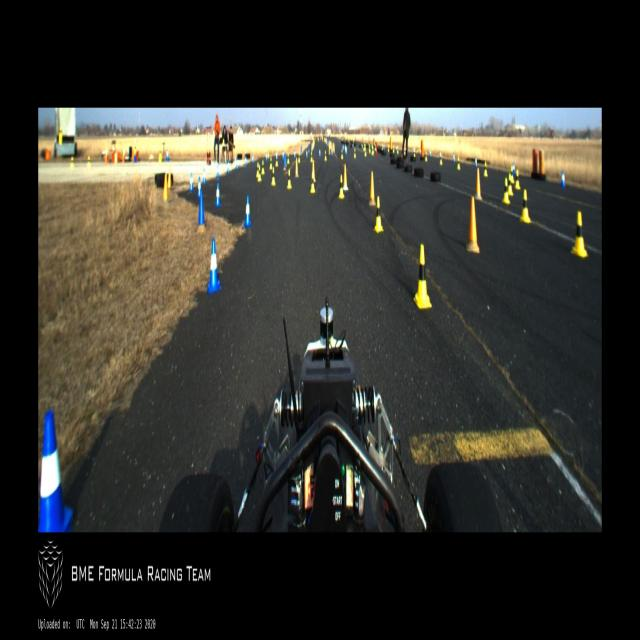blue_cone: (38, 410, 73, 532), (208, 237, 222, 295), (244, 194, 252, 226), (215, 182, 222, 206), (561, 170, 566, 188), (197, 177, 201, 197), (190, 173, 193, 192), (216, 164, 220, 178), (203, 168, 206, 184), (283, 154, 286, 168), (227, 160, 230, 173), (236, 157, 239, 170), (166, 149, 169, 162), (513, 162, 515, 176), (245, 156, 247, 167), (475, 157, 477, 168), (266, 152, 268, 162), (453, 152, 455, 162), (252, 154, 254, 163), (306, 149, 308, 158), (319, 148, 321, 157), (294, 150, 296, 158)
unknown_cone: (466, 195, 479, 253), (368, 171, 376, 205), (474, 168, 482, 200), (198, 189, 205, 225), (162, 172, 168, 200), (343, 164, 349, 190), (311, 160, 316, 182), (294, 158, 298, 178), (168, 168, 171, 189), (268, 148, 270, 158)
yellow_cone: (413, 243, 432, 309), (571, 210, 588, 258), (373, 195, 384, 234), (520, 189, 531, 223), (502, 177, 511, 205), (508, 172, 514, 196), (339, 174, 344, 198), (310, 174, 316, 194), (287, 169, 292, 189), (515, 169, 520, 189), (272, 167, 276, 186), (511, 166, 515, 184), (483, 160, 487, 178), (258, 166, 262, 182), (484, 161, 488, 177), (261, 160, 265, 175), (87, 156, 91, 169), (256, 162, 259, 178), (439, 154, 443, 165), (70, 157, 74, 168), (158, 148, 162, 158), (457, 157, 460, 170), (275, 155, 278, 167), (371, 146, 374, 156), (59, 127, 62, 136), (270, 157, 272, 169), (425, 150, 427, 162), (287, 153, 289, 164), (298, 152, 300, 163), (310, 152, 312, 162), (324, 151, 326, 161), (341, 149, 343, 159), (354, 148, 356, 158), (364, 148, 366, 157), (392, 145, 394, 153), (134, 144, 136, 152), (397, 147, 399, 154), (388, 145, 389, 152)
